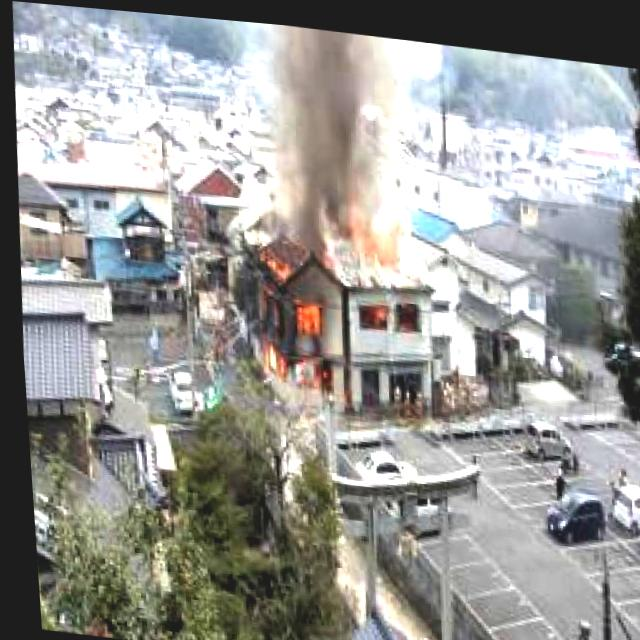Fire: (240, 243, 324, 389), (350, 294, 386, 324)
Smoke: (232, 16, 437, 282)
